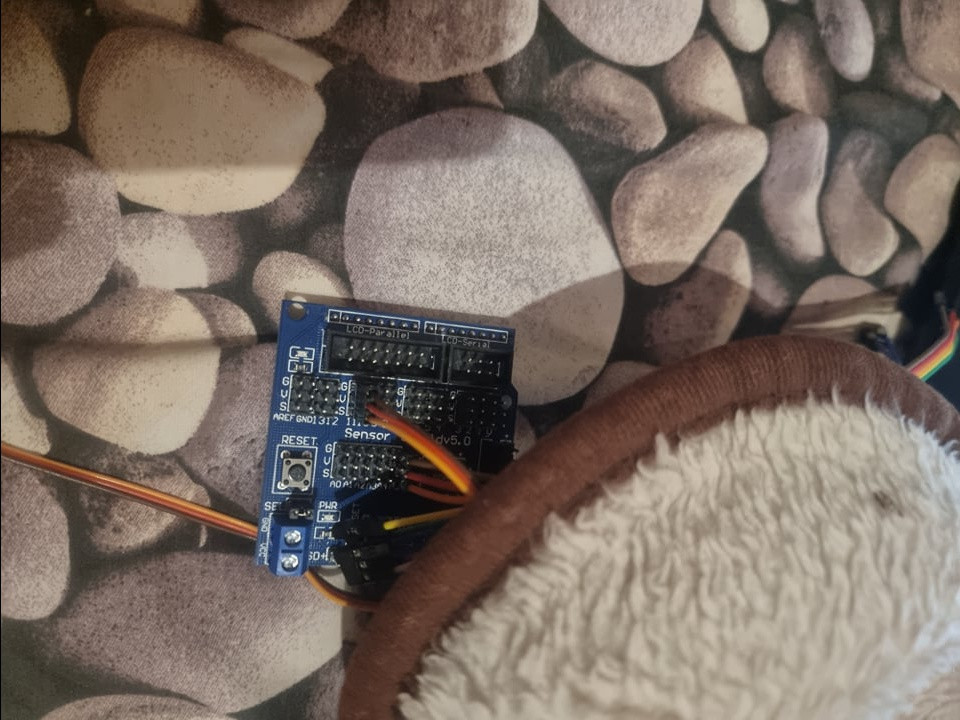5V EXPANSION: (253, 293, 513, 578)
